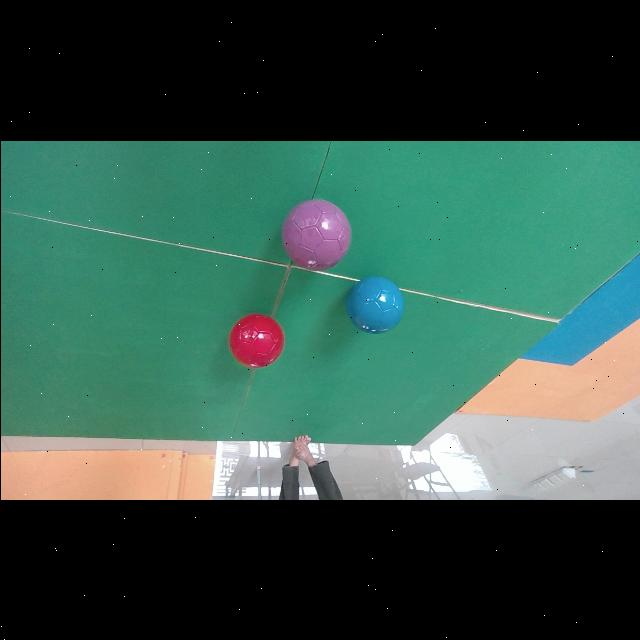B: (346, 277, 403, 333)
P: (282, 199, 351, 271)
R: (228, 314, 283, 369)
